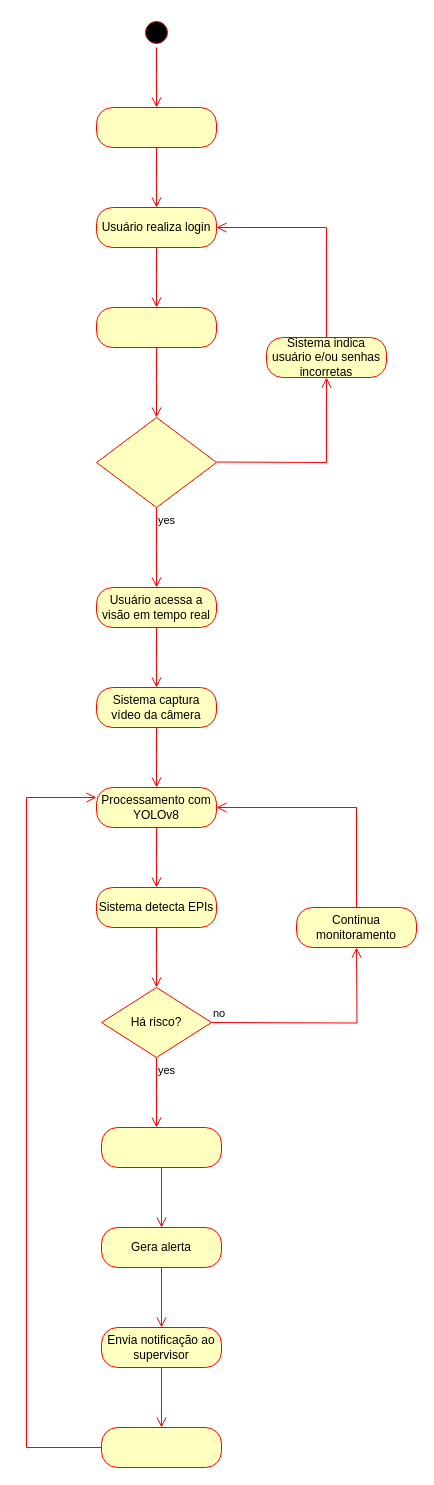
Some shapes in this 434 by 1485 pixel diagram are drawn without their labels. The box of each missing label's shape, as (x1, y1, x2, y2) in pixels:
Credenciais válidas?: (96, 416, 216, 508)
Registra ocorrência: (100, 1126, 222, 1168)
Sistema válida credenciais: (96, 306, 216, 348)
Usuário abre o site: (96, 106, 216, 148)
Usuário recebe notificação: (100, 1426, 222, 1468)
